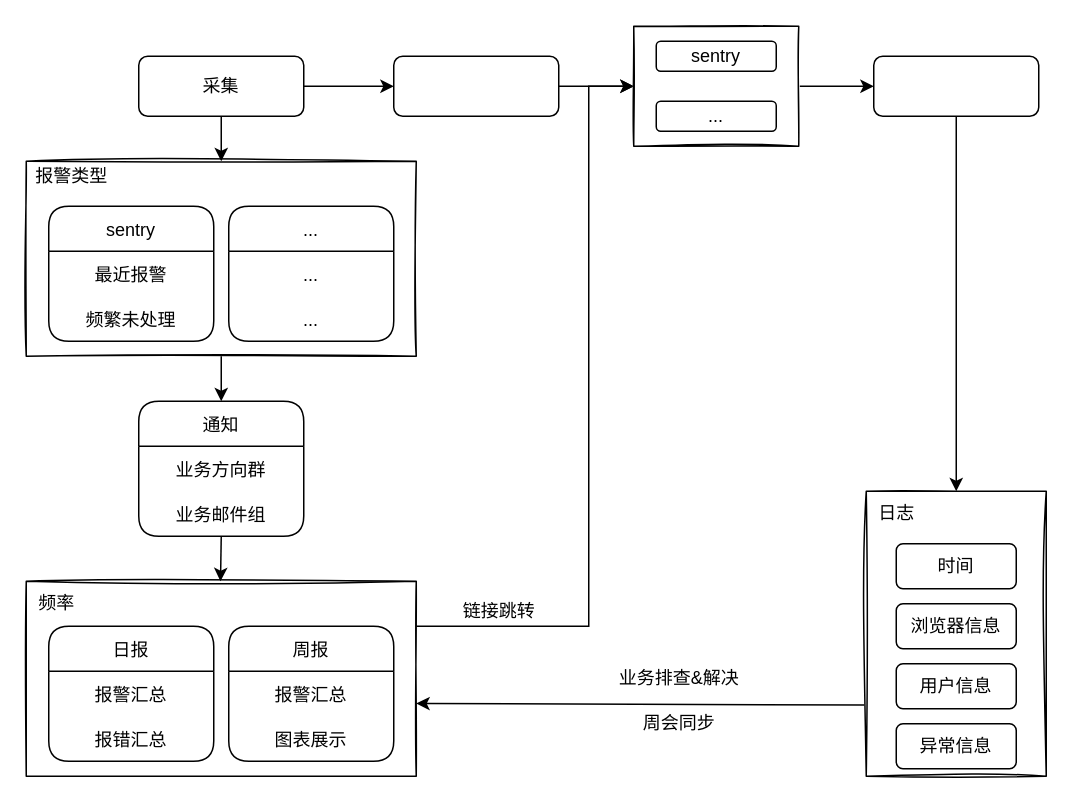
This 1073x803 diagram has some shape labels left out. Each missing label, with the centre of its shape:
报警: pixel 475 85
查看详情: pixel 955 85
